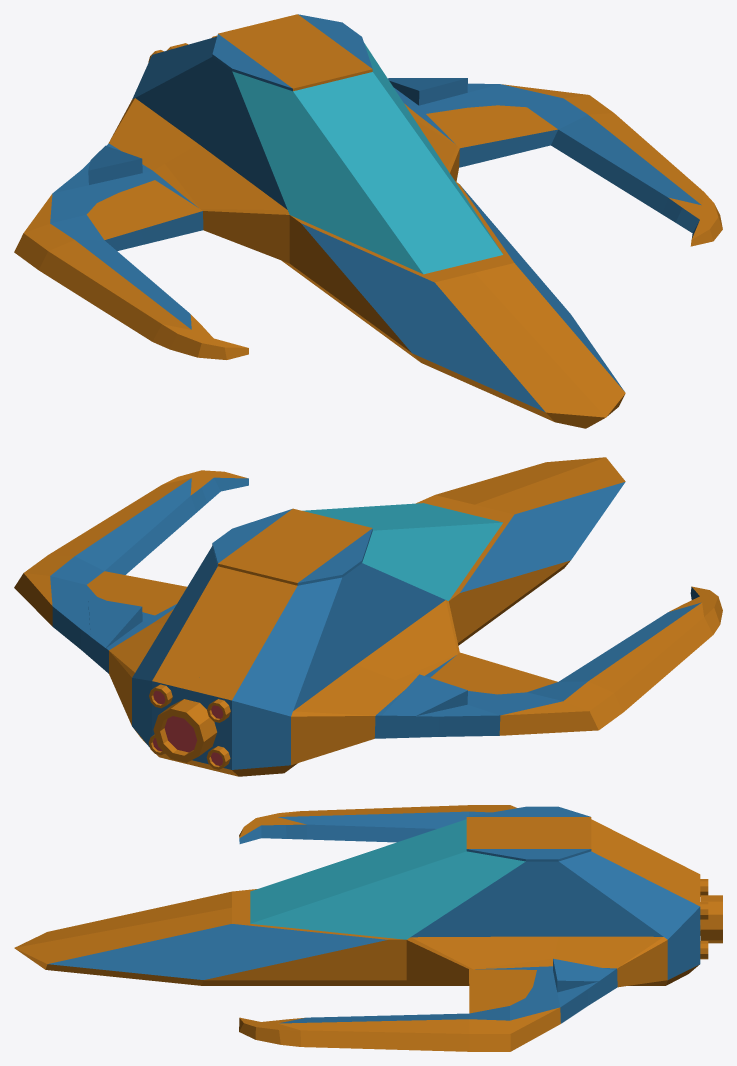
The model's file is playerUnity.fbx.
3 views of the same model, one above another, from view 1: azimuth 30°, elevation 25°; view 2: azimuth 150°, elevation 25°; view 3: azimuth 270°, elevation 25° (orthographic). The views are drawn at different scales.
Visible parts, largest first — view 1: Куб; view 2: Куб, Цилиндр; view 3: Куб, Цилиндр.
Part boxes in pixels (left/top/right/bottom): Куб: left=14, top=14, right=722, bottom=428; Куб: left=14, top=457, right=722, bottom=776; Цилиндр: left=153, top=699, right=217, bottom=762; Куб: left=14, top=805, right=700, bottom=1051; Цилиндр: left=700, top=895, right=722, bottom=943.
Bounding box in the file's own units: 1283 × 345 × 1625.
